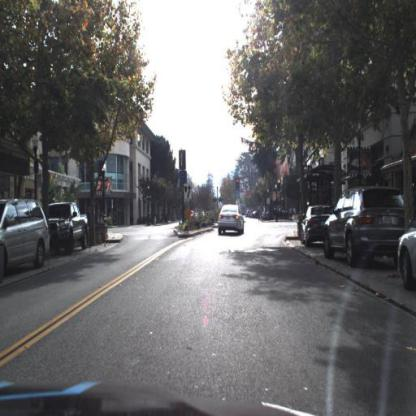car: (324, 186, 405, 272), (1, 197, 52, 280), (48, 200, 94, 254), (297, 204, 335, 251), (217, 201, 247, 241), (398, 226, 416, 292)
pedestrian: (257, 209, 264, 225)
trafficLight-Red: (147, 179, 156, 200), (235, 175, 242, 193)
